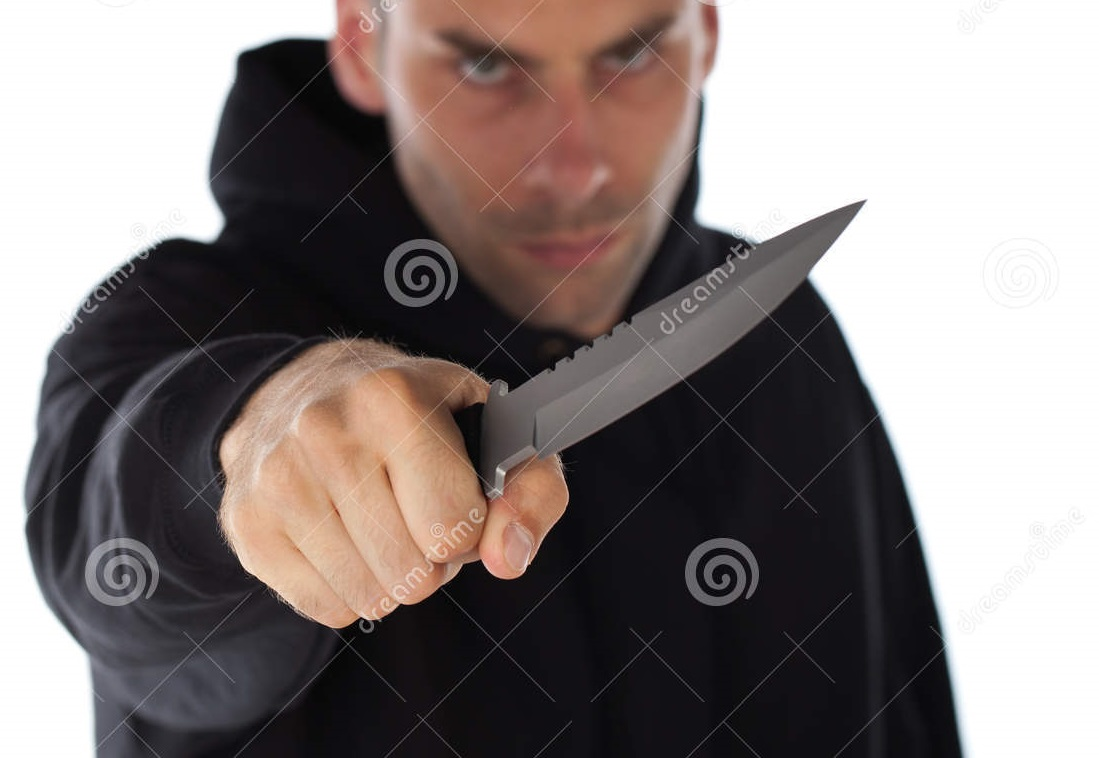knife: (327, 185, 883, 573)
